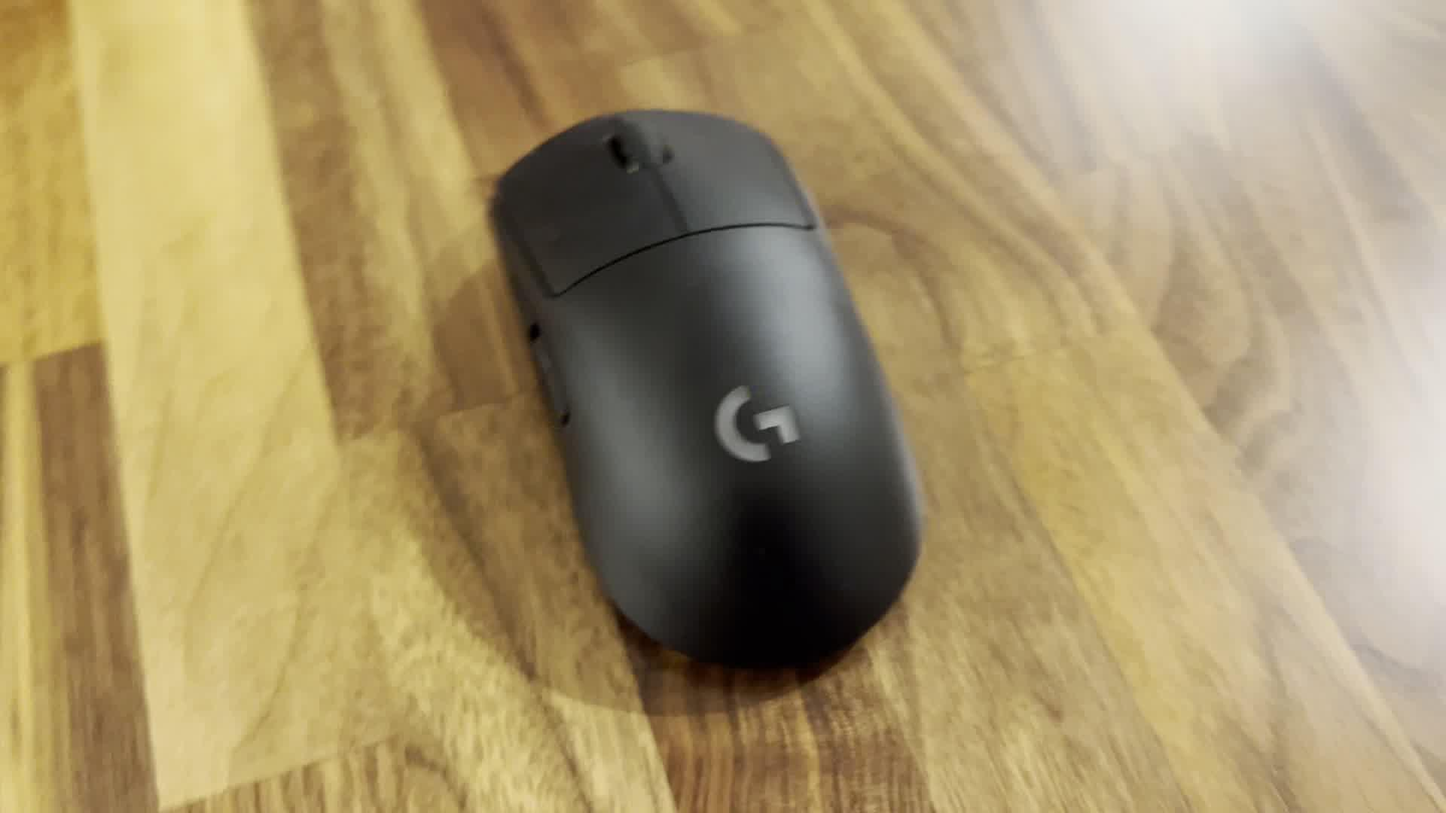mouse: (486, 99, 932, 680)
